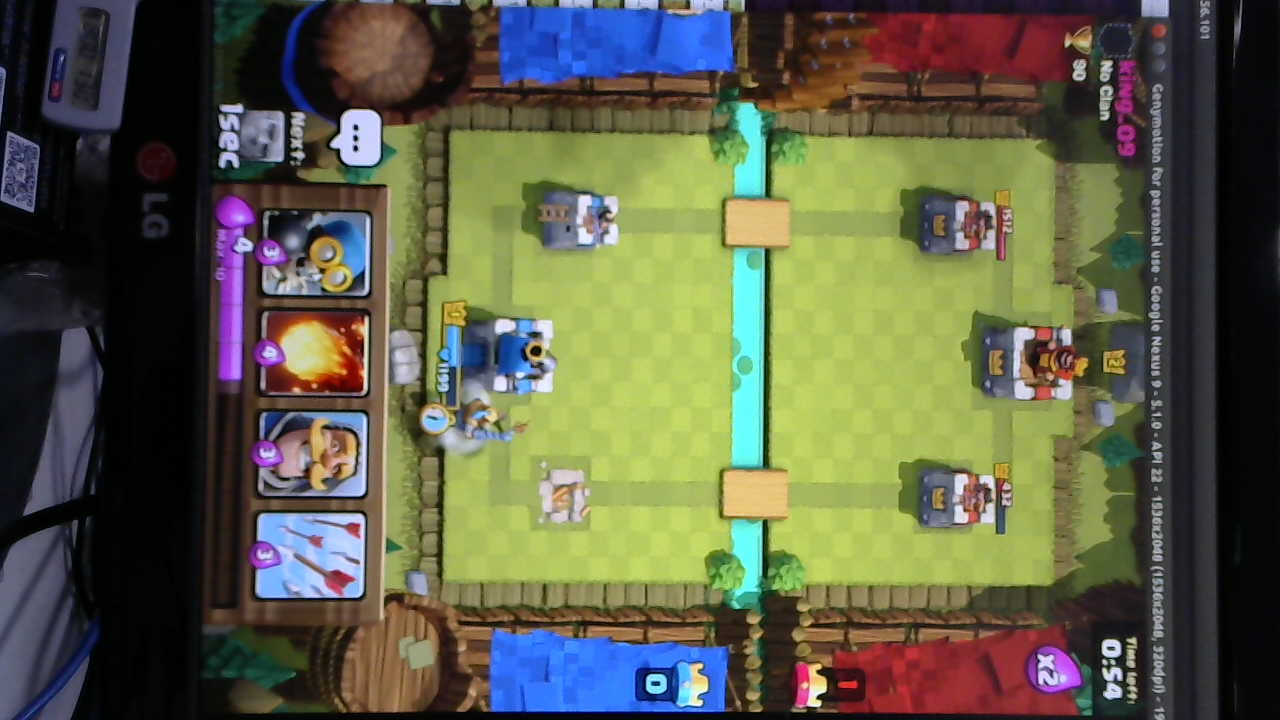arena: (538, 192, 621, 251)
darena: (533, 462, 593, 535)
earena: (916, 471, 997, 530), (923, 199, 1002, 255)
eking: (983, 323, 1088, 407)
king: (466, 315, 562, 397)
prince: (436, 400, 509, 440)
